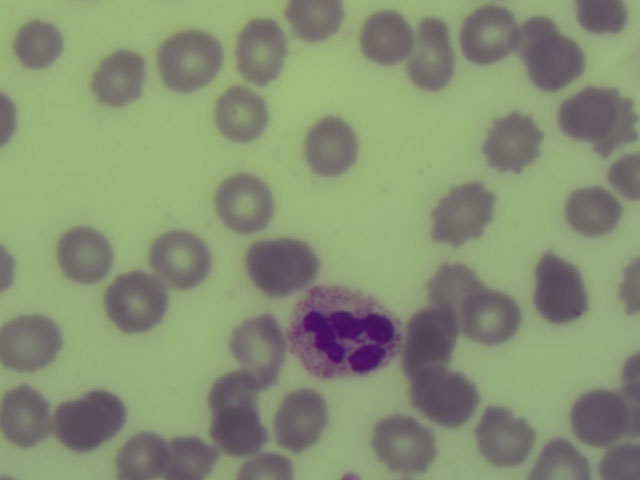RBC: (159, 23, 223, 92), (272, 386, 332, 451), (376, 413, 439, 474), (426, 262, 494, 318), (228, 317, 287, 381), (532, 255, 587, 321), (216, 175, 278, 232), (3, 310, 60, 372), (110, 270, 169, 329), (1, 384, 56, 447), (436, 183, 491, 245), (417, 367, 477, 423), (154, 226, 208, 286), (58, 227, 115, 283), (249, 240, 312, 290), (485, 116, 540, 172), (480, 404, 532, 463), (532, 33, 585, 90), (240, 20, 287, 83), (419, 19, 462, 87), (594, 97, 640, 160), (363, 8, 412, 67), (564, 89, 620, 140), (310, 118, 356, 180), (467, 9, 516, 66), (569, 184, 621, 237), (91, 53, 143, 105), (217, 91, 269, 140), (204, 368, 259, 414), (576, 387, 621, 443), (466, 295, 519, 342), (63, 402, 112, 451), (287, 2, 341, 45), (535, 436, 587, 480), (400, 334, 452, 376), (411, 306, 461, 349), (125, 430, 168, 479), (217, 414, 268, 455), (14, 25, 61, 69), (172, 437, 219, 480), (579, 1, 627, 38), (611, 147, 640, 207), (516, 18, 558, 58), (88, 393, 129, 432), (601, 439, 640, 480), (240, 451, 292, 480), (621, 261, 640, 318), (2, 244, 17, 295), (2, 94, 16, 142), (622, 354, 638, 392)
WBC: (292, 283, 400, 383)
